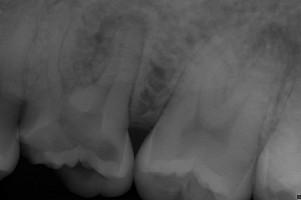Furcation Involvement: (252, 20, 301, 75), (94, 9, 151, 46)
